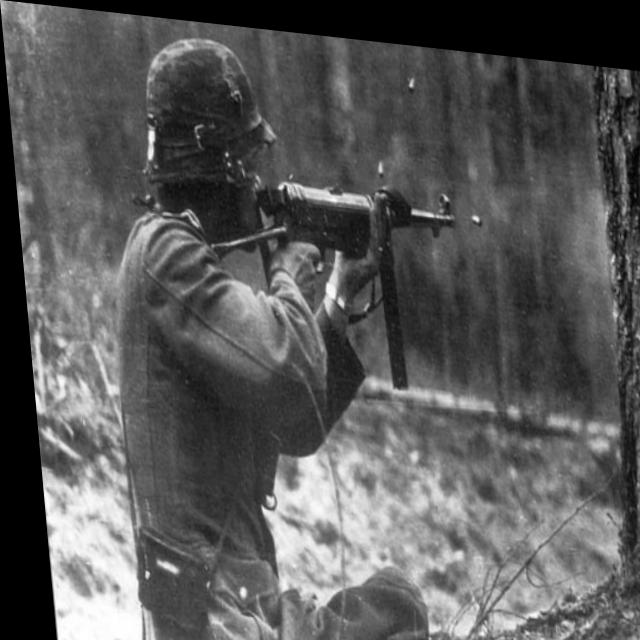other: (81, 25, 347, 640)
